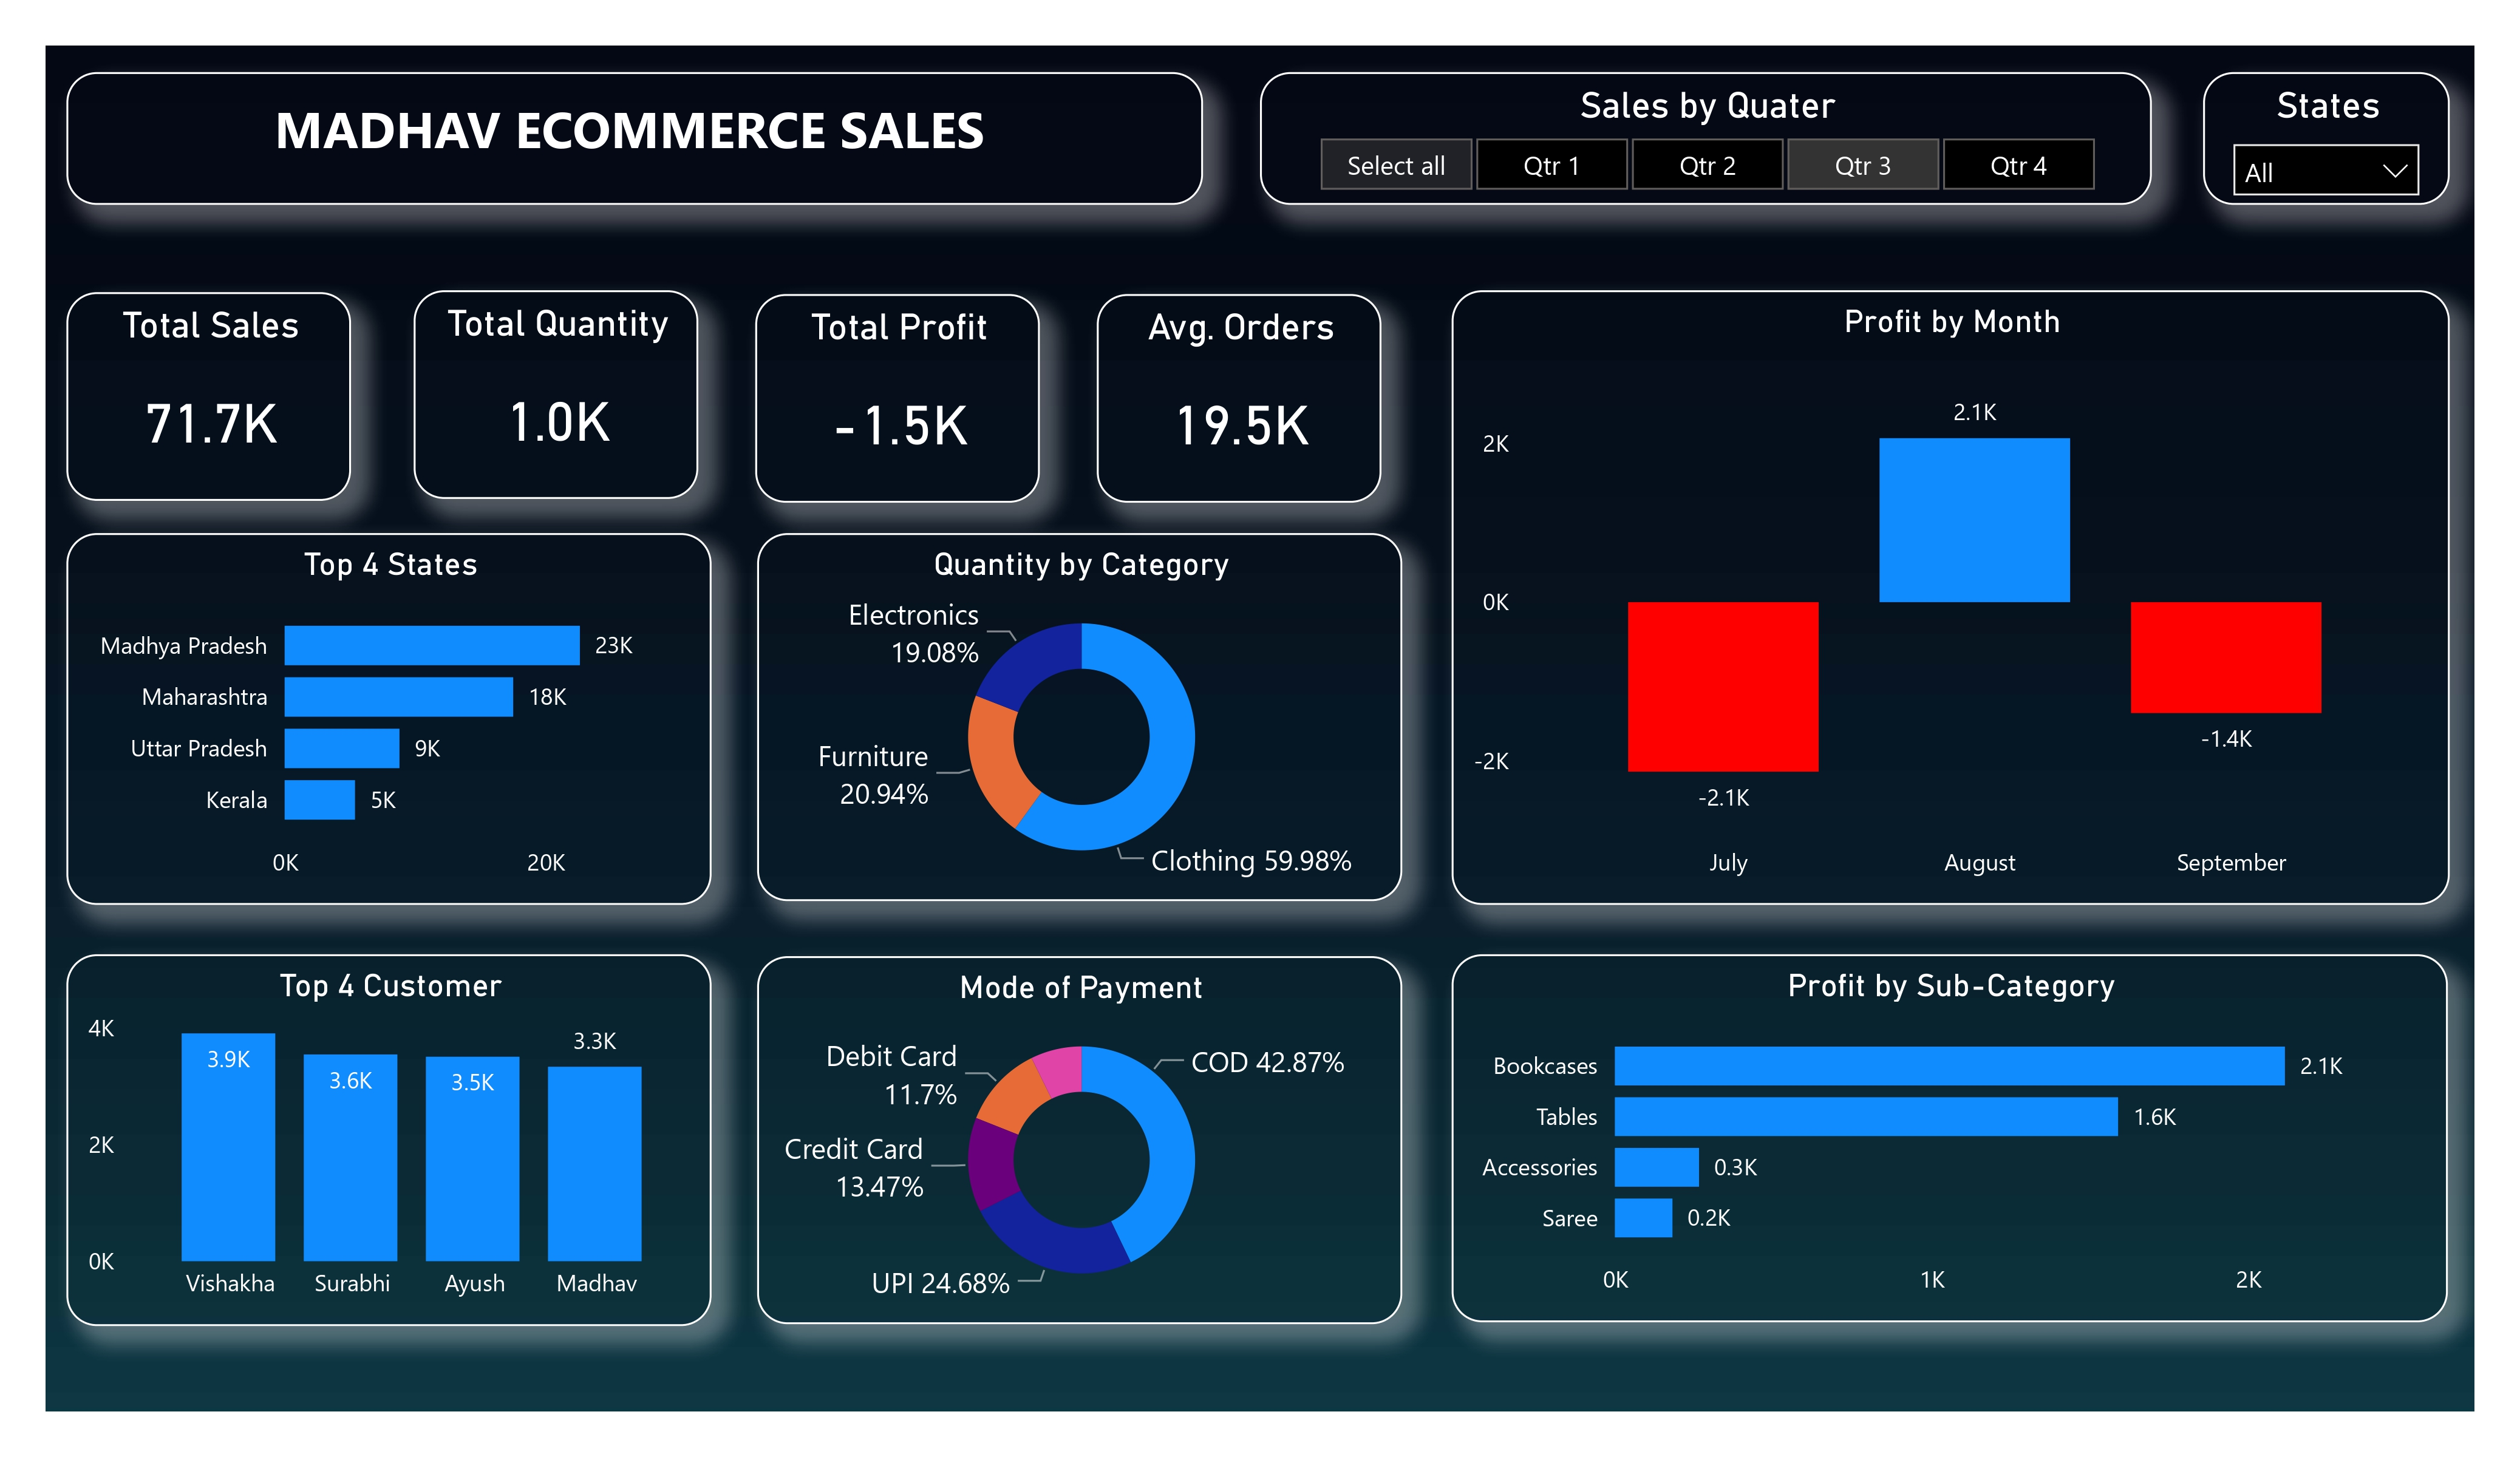

The page's visual inventory and layout, read from the dashboard file:
{"tool":"powerbi","page":{"name":"Page 1","canvas":[1280,720],"ordinal":0},"visuals":[{"type":"card","title":"Total Sales","fields":{"Values":["Details.Amount"]},"box":[11.4,130,150,110],"z":0},{"type":"textbox","box":[11.4,14.3,598.6,70],"z":1000},{"type":"columnChart","title":"Profit by Month","fields":{"Category":["Orders.Order Date.Variation.Date Hierarchy.Month"],"Y":["Details.Profit"]},"box":[741.4,128.6,525.7,324.3],"z":2000},{"type":"card","title":"Total Quantity","fields":{"Values":["Details.Quantity"]},"box":[194.3,128.6,150,110],"z":3000},{"type":"card","title":"Total Profit","fields":{"Values":["Details.Profit"]},"box":[374.3,131.4,150,110],"z":4000},{"type":"card","title":"Avg. Orders","fields":{"Values":["Details.Average Order"]},"box":[554.3,131.4,150,110],"z":5000},{"type":"barChart","title":"Top 4 States","fields":{"Category":["Orders.State"],"Y":["Details.Amount"]},"box":[11.4,257.1,340,195.7],"z":6000},{"type":"columnChart","title":"Top 4 Customer","fields":{"Category":["Orders.CustomerName"],"Y":["Details.Amount"]},"box":[11,478.5,340,196],"z":7000},{"type":"donutChart","title":"Quantity by Category","fields":{"Category":["Details.Category"],"Y":["Details.Quantity"]},"box":[374.7,257.1,340,194.3],"z":8000},{"type":"donutChart","title":"Mode of Payment","fields":{"Category":["Details.PaymentMode"],"Y":["Details.Quantity"]},"box":[374.7,480,340,194.3],"z":9000},{"type":"barChart","title":"Profit by Sub-Category","fields":{"Category":["Details.Sub-Category"],"Y":["Details.Profit"]},"box":[741.4,478.6,524.3,194.3],"z":10000},{"type":"slicer","title":"Sales by Quater","fields":{"Values":["Orders.Order Date.Variation.Date Hierarchy.Quarter"]},"box":[640,14.3,470,70],"z":11000},{"type":"slicer","title":"States","fields":{"Values":["Orders.State"]},"box":[1137.1,14.3,130,70],"z":12000}]}

Visuals, with their boxes on the page's 1280x720 design canvas (x1, y1, x2, y2). These are canvas units, not pixel positions in the 2520x1457 screenshot, which may show the page scaled, cropped or inside an application window:
"Total Sales" card: 11 130 161 240
textbox: 11 14 610 84
"Profit by Month" columnChart: 741 129 1267 453
"Total Quantity" card: 194 129 344 239
"Total Profit" card: 374 131 524 241
"Avg. Orders" card: 554 131 704 241
"Top 4 States" barChart: 11 257 351 453
"Top 4 Customer" columnChart: 11 478 351 674
"Quantity by Category" donutChart: 375 257 715 451
"Mode of Payment" donutChart: 375 480 715 674
"Profit by Sub-Category" barChart: 741 479 1266 673
"Sales by Quater" slicer: 640 14 1110 84
"States" slicer: 1137 14 1267 84
